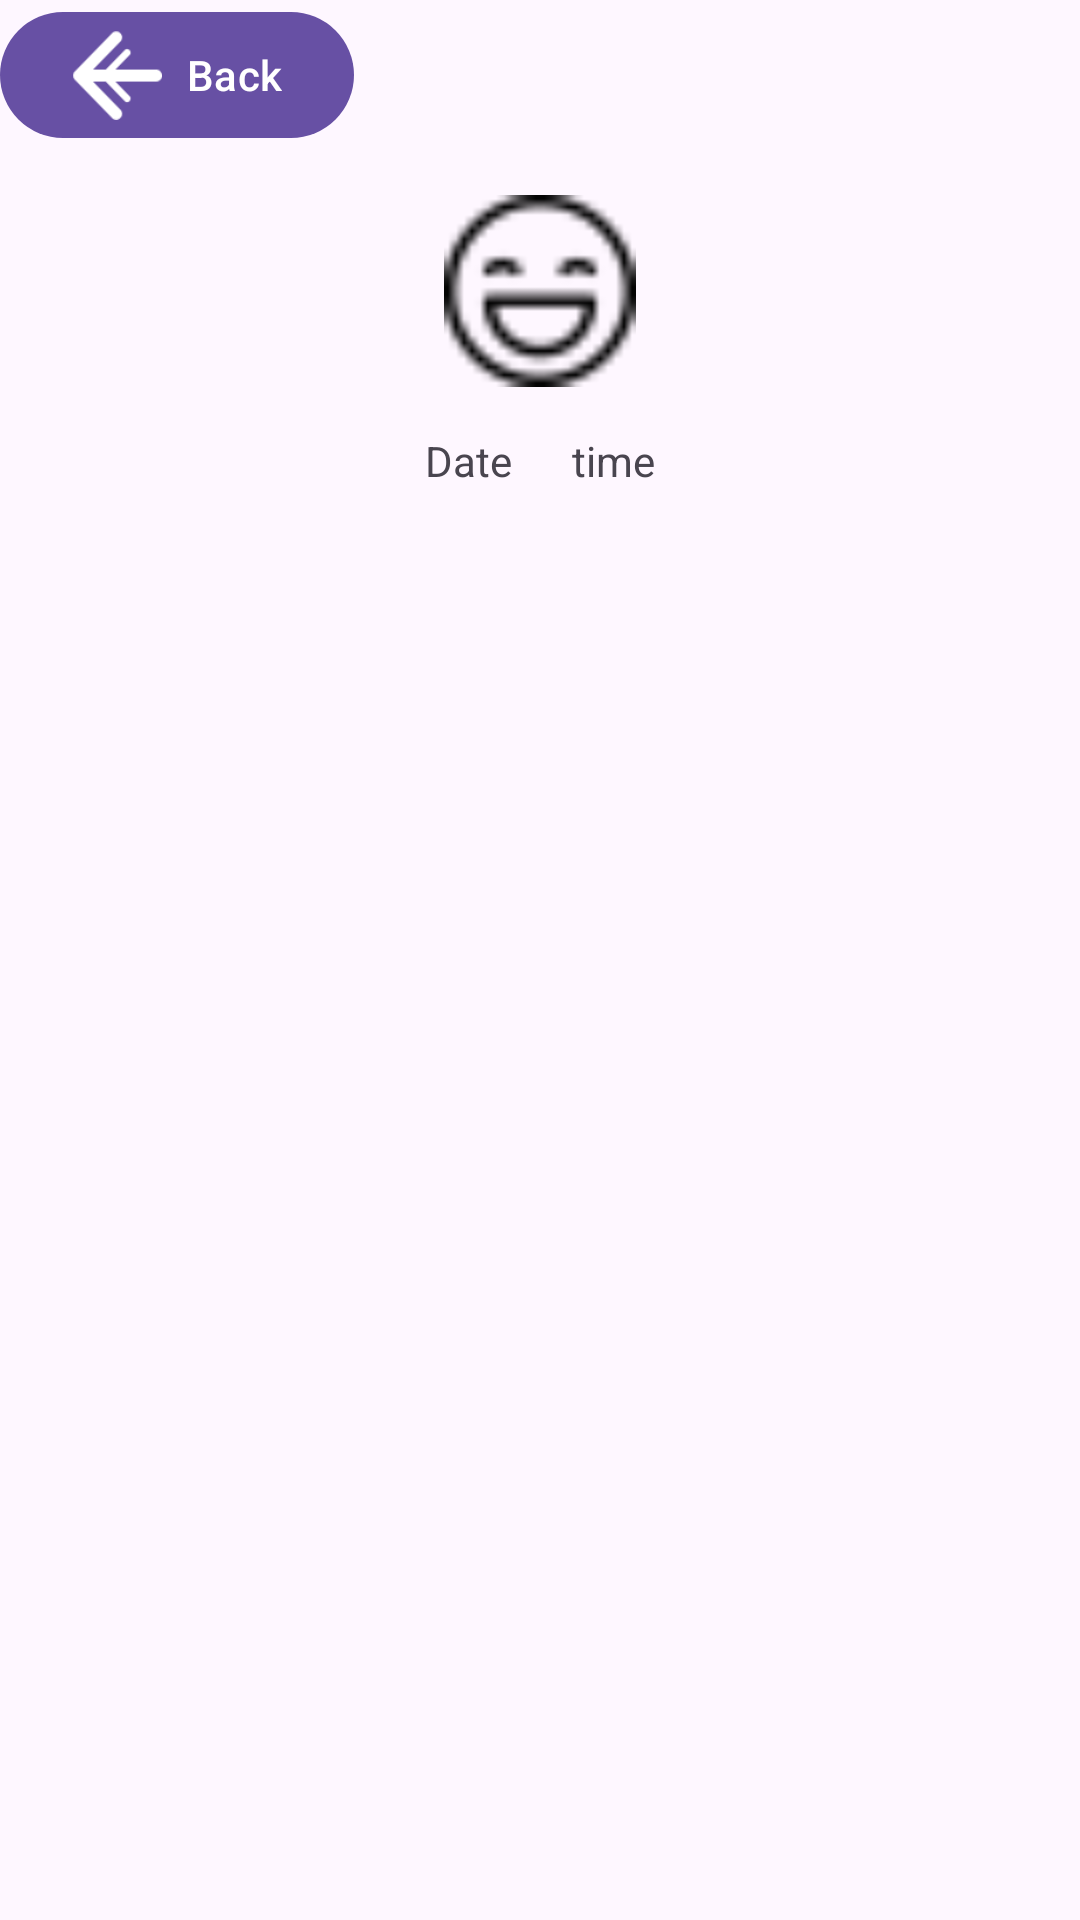

Where to tap for icons on this 1080 x 1920 app screen, as [x,y]:
emotion great: [540,291]
